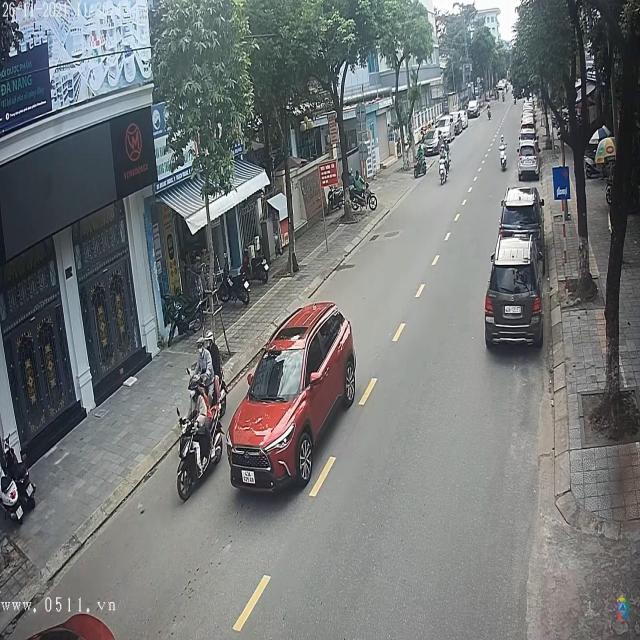car: (225, 302, 358, 496), (485, 227, 544, 351), (501, 187, 544, 242), (516, 148, 539, 180), (517, 130, 537, 148), (468, 99, 481, 117)
motorcycle: (171, 408, 225, 503), (499, 144, 509, 171), (438, 159, 448, 185)
